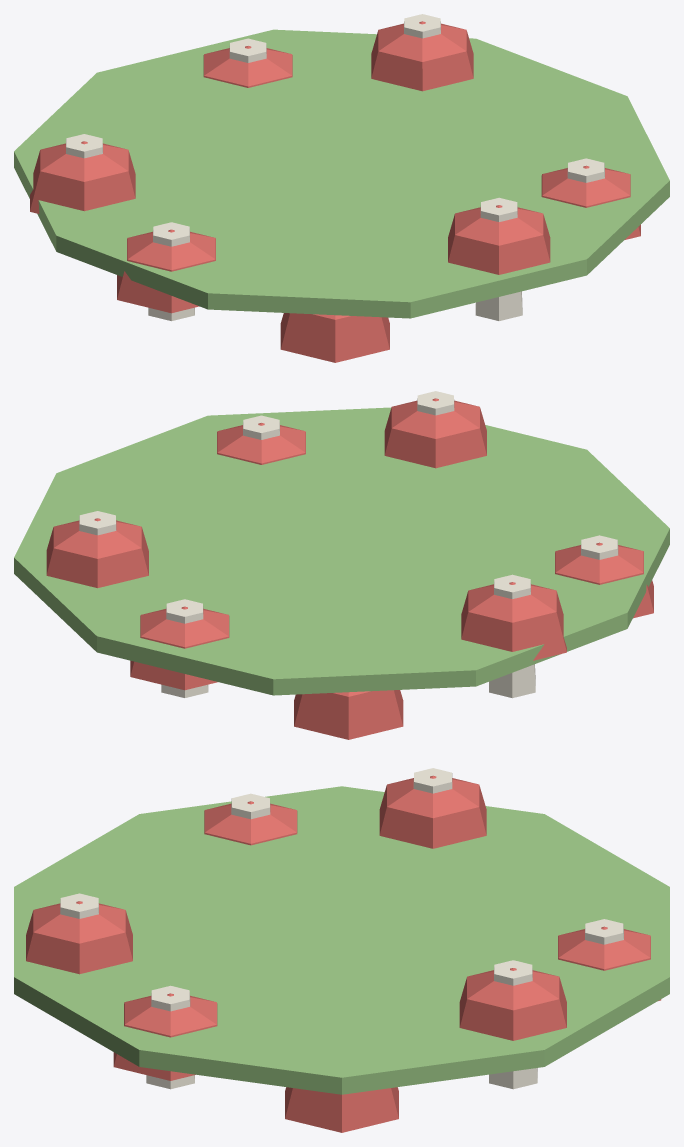
File: town_mushroom_ring.glb
The picture shows the model from 3 angles, top to bottom: view 1: azimuth 30°, elevation 25°; view 2: azimuth 150°, elevation 25°; view 3: azimuth 270°, elevation 25°; orthographic projection. The views are drawn at different scales.
Parts seen in each view (by area): view 1: world; view 2: world; view 3: world.
Boxes of the visible parts, bbox=[...] form: world: bbox=[14, 14, 669, 362]; world: bbox=[14, 391, 669, 739]; world: bbox=[14, 768, 669, 1132].
Bounding box in the file's own units: 2 × 0.3545 × 1.9.
